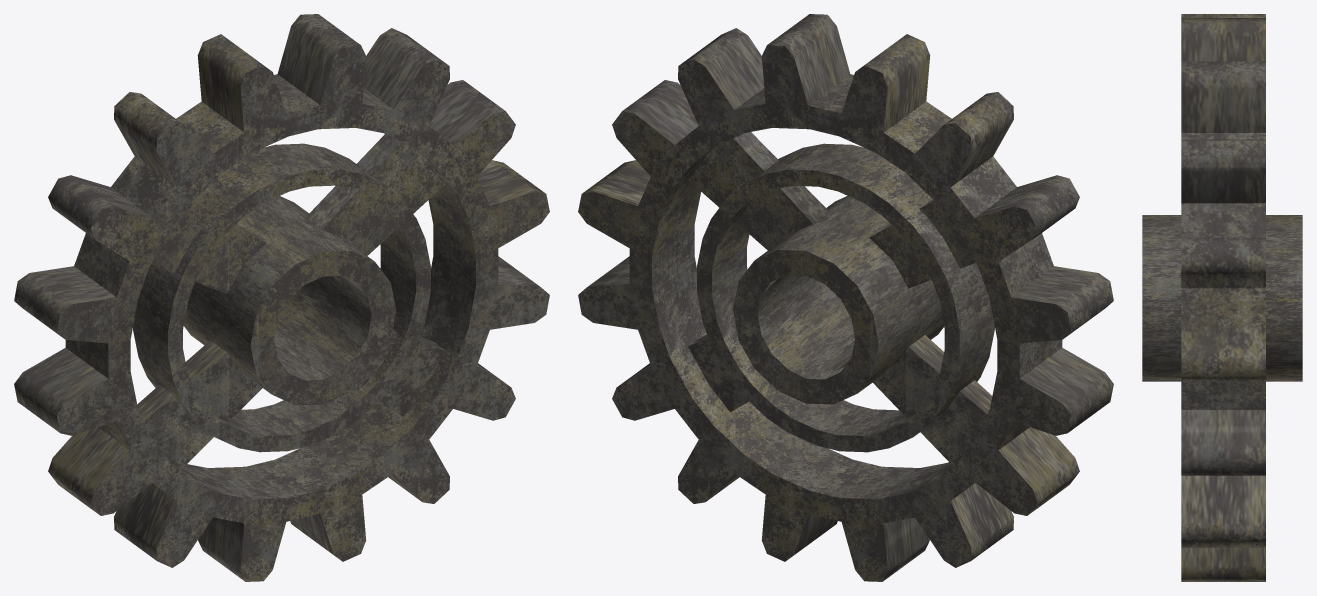
Rendered from cog03.FBX.
3 renders of one model, left to right at view 1: azimuth 30°, elevation 25°; view 2: azimuth 150°, elevation 25°; view 3: azimuth 270°, elevation 25°, orthographic.
Visible parts, largest first — view 1: cog03; view 2: cog03; view 3: cog03.
Boxes of the visible parts, x1,y1,x2,y2 form: cog03: [14, 14, 549, 581]; cog03: [578, 14, 1113, 581]; cog03: [1142, 14, 1302, 581].
Bounding box in the file's own units: 79.87 × 79.87 × 22.71.
Materials: 1 (1 with a texture image).
